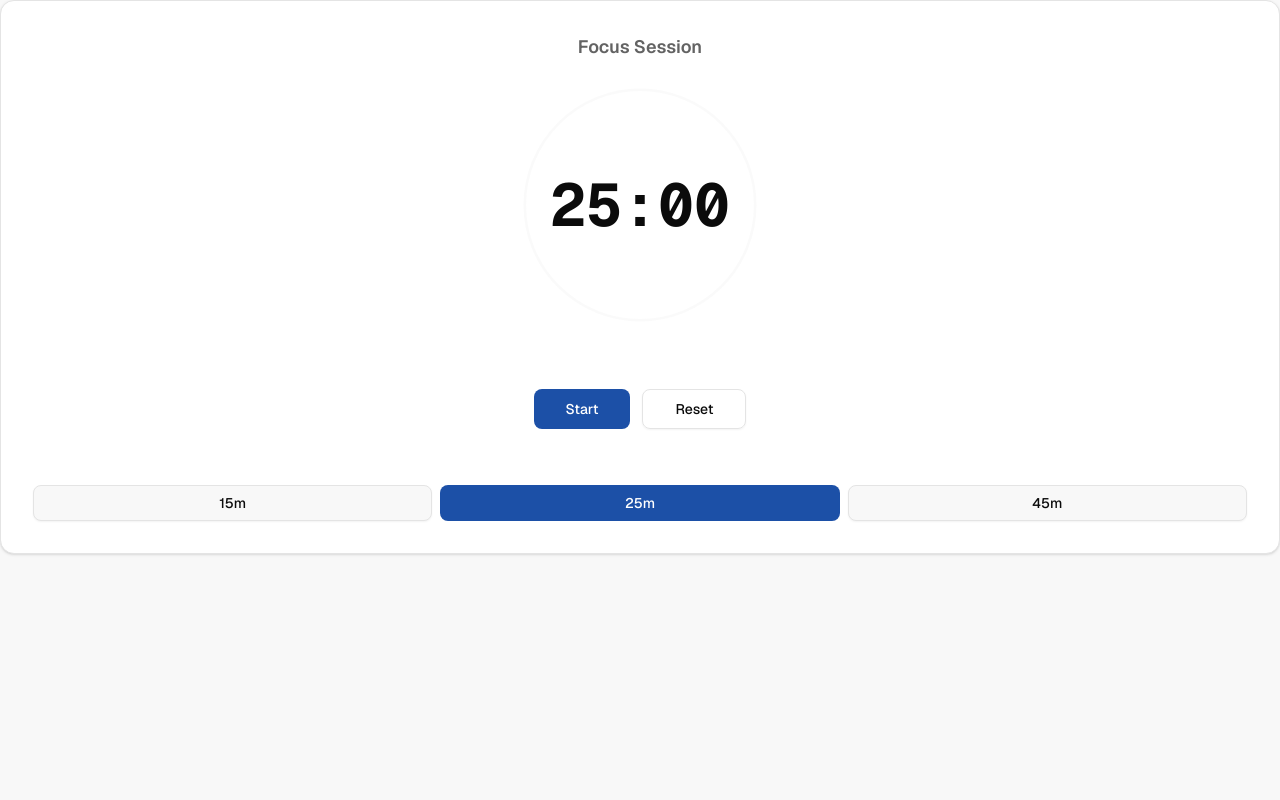
Test case: FocusTimer › pauses the timer when Pause button is clicked
Click the button "Start".
click(582, 409)  # box [534,389,630,429]
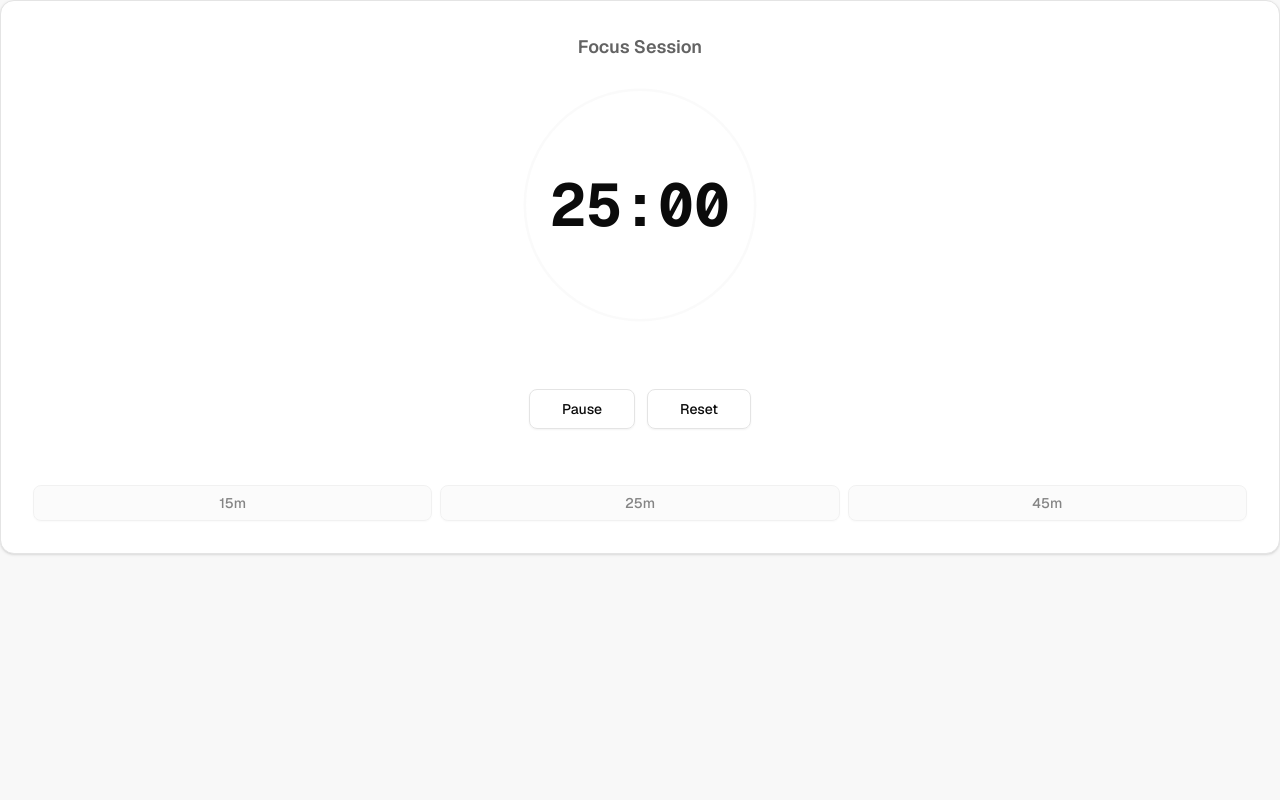
Click the button "Pause".
click(582, 409)  # box [529,389,635,429]
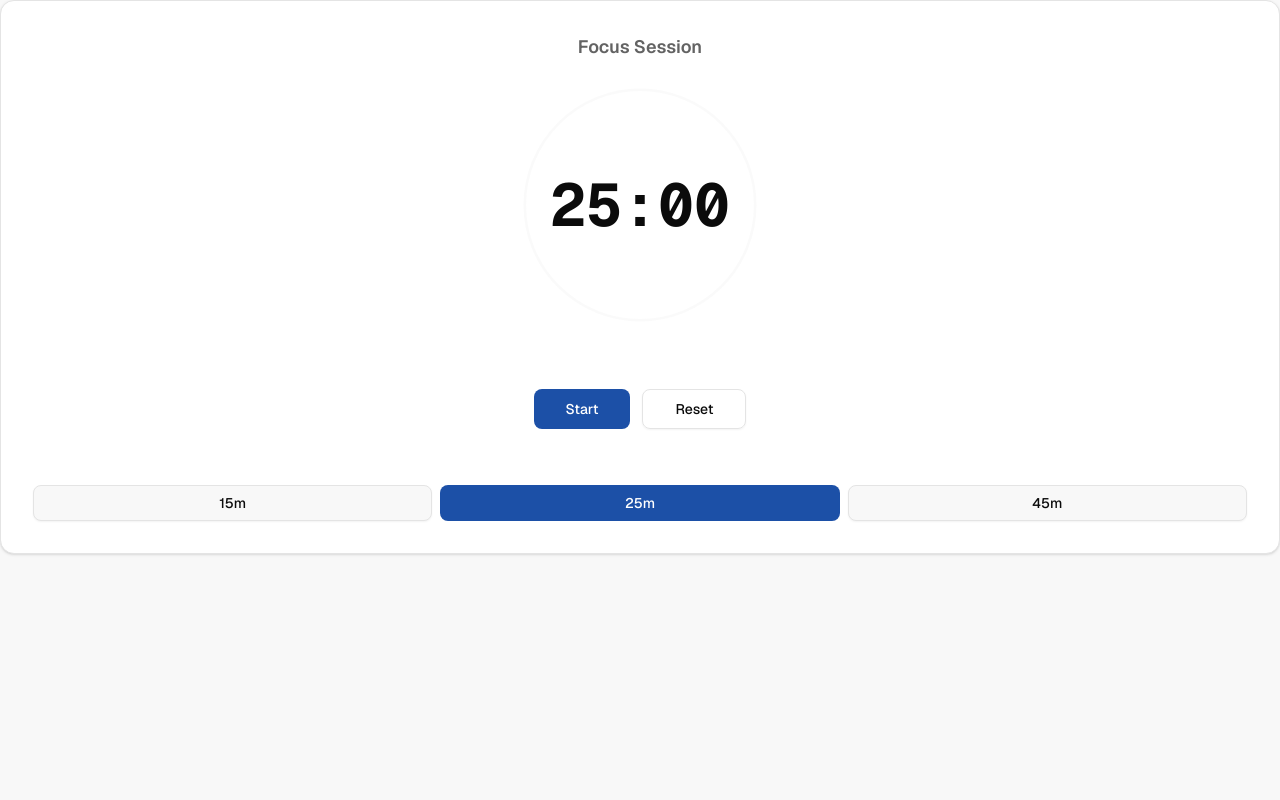
Check: the button "Start" is shown, box [534,389,630,429]
